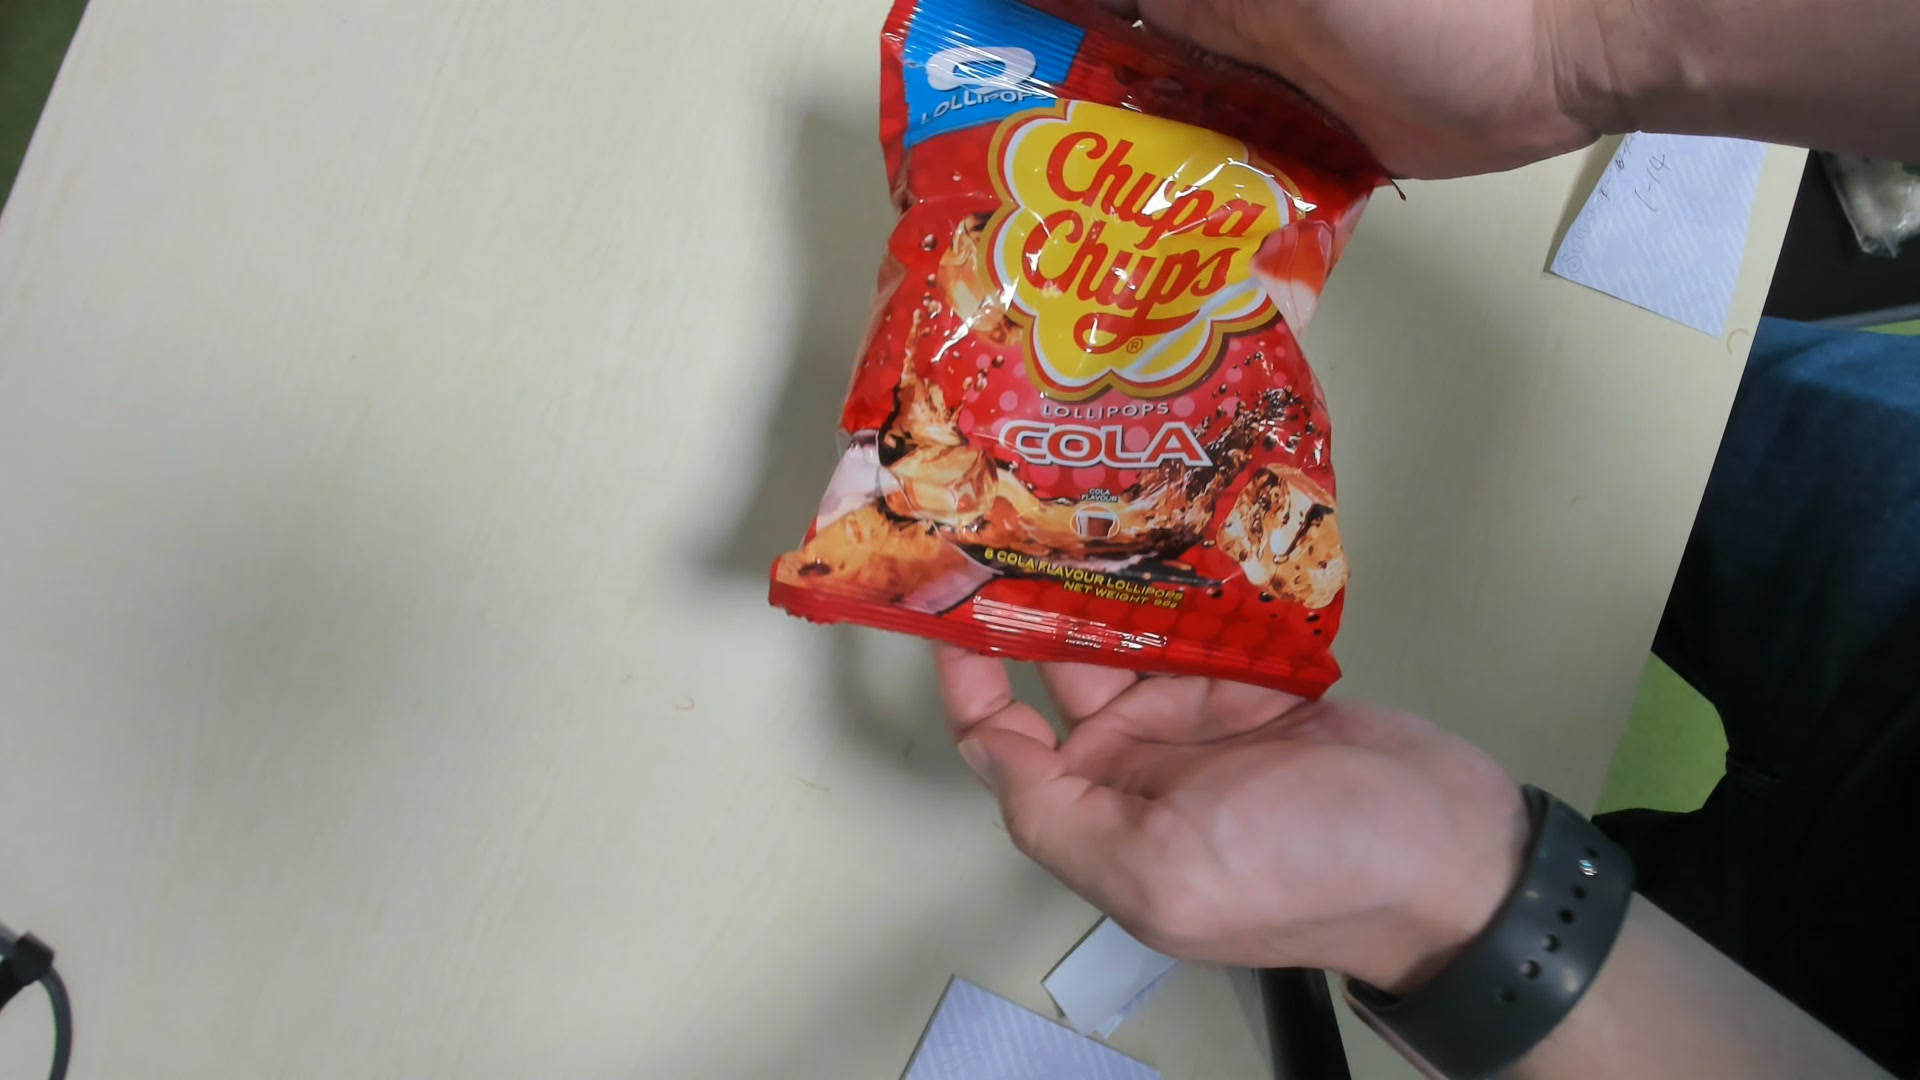SweetsChocolatesOthers_0-99g_NonHalal_Nonhealthy: (781, 5, 1371, 688)
